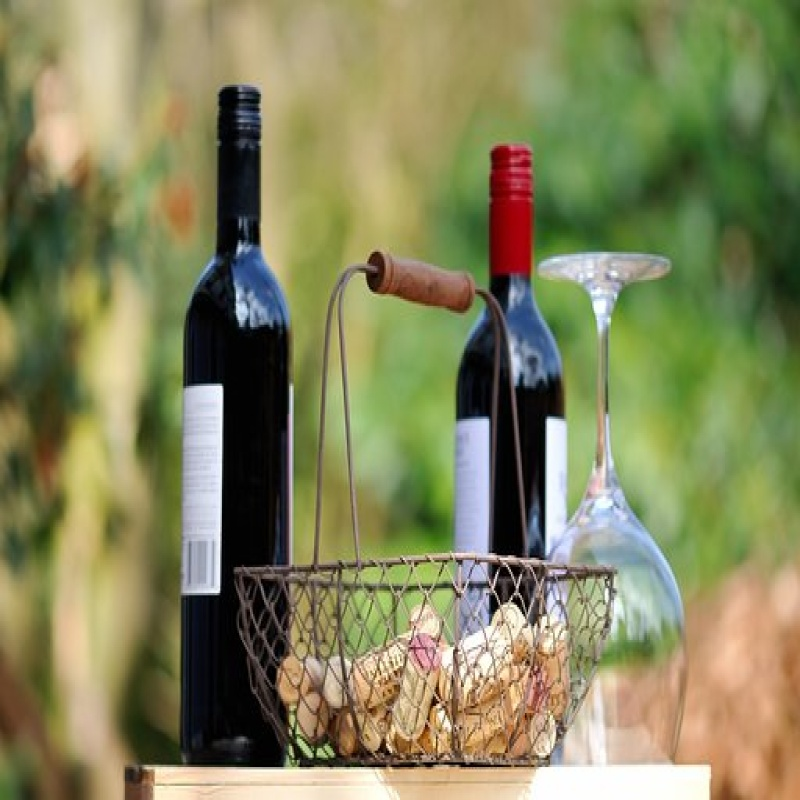wine: (176, 86, 298, 750), (456, 143, 567, 628)
